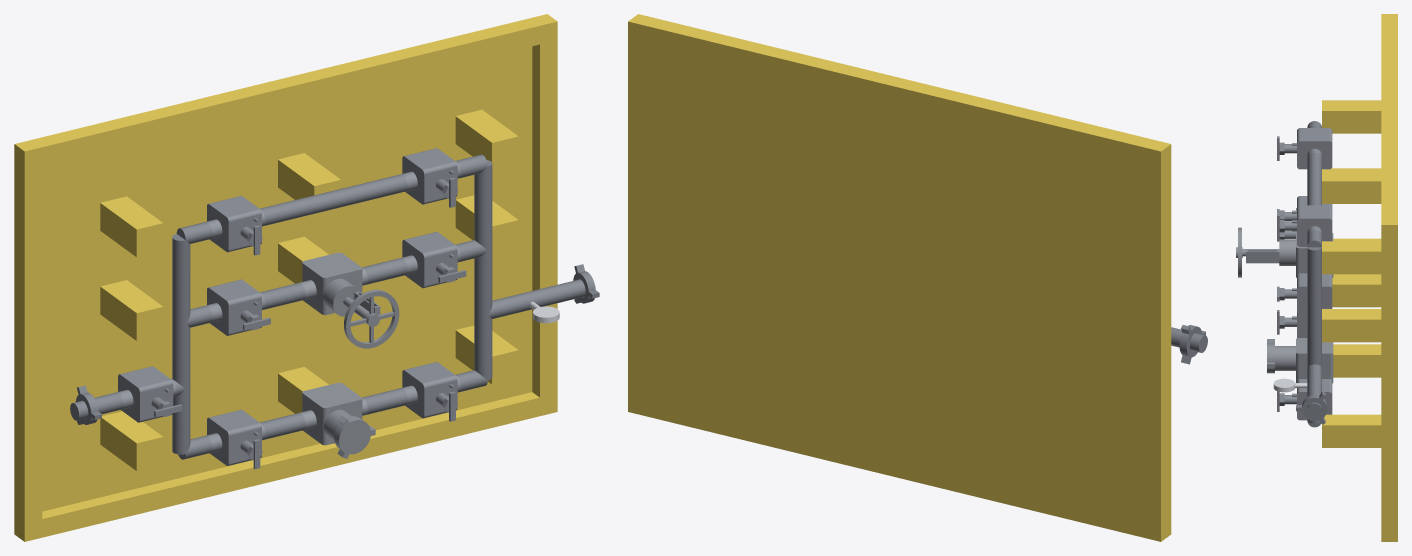
File: FB-CHOKEMANIFOLD.glb
3 views of the same model, side by side, from view 1: azimuth 30°, elevation 25°; view 2: azimuth 150°, elevation 25°; view 3: azimuth 270°, elevation 25° (orthographic). The views are drawn at different scales.
Visible parts, largest first — view 1: FB-CHOKEMANIFOLD-SKID, FB-CHOKEMANIFOLD-PLUGVALVE, FB-CHOKEMANIFOLD-INLET, FB-CHOKEMANIFOLD-OUTLET, FB-CHOKEMANIFOLD-ADJUSTABLECHOKE, FB-CHOKEMANIFOLD-POSITIVECHOKE, FB-CHOKEMANIFOLD-BYPASS; view 2: FB-CHOKEMANIFOLD-SKID, FB-CHOKEMANIFOLD-INLET; view 3: FB-CHOKEMANIFOLD-SKID, FB-CHOKEMANIFOLD-PLUGVALVE, FB-CHOKEMANIFOLD-OUTLET, FB-CHOKEMANIFOLD-POSITIVECHOKE, FB-CHOKEMANIFOLD-ADJUSTABLECHOKE, FB-CHOKEMANIFOLD-BYPASS, FB-CHOKEMANIFOLD-GAUGE.
Part boxes in pixels (box(x1,y1,x2,y2)): FB-CHOKEMANIFOLD-SKID: box(14, 14, 557, 541); FB-CHOKEMANIFOLD-PLUGVALVE: box(117, 148, 466, 469); FB-CHOKEMANIFOLD-INLET: box(70, 234, 487, 459); FB-CHOKEMANIFOLD-OUTLET: box(474, 160, 599, 380); FB-CHOKEMANIFOLD-ADJUSTABLECHOKE: box(300, 252, 399, 348); FB-CHOKEMANIFOLD-POSITIVECHOKE: box(299, 382, 375, 458); FB-CHOKEMANIFOLD-BYPASS: box(176, 154, 487, 243); FB-CHOKEMANIFOLD-SKID: box(628, 14, 1171, 541); FB-CHOKEMANIFOLD-INLET: box(1171, 325, 1207, 364); FB-CHOKEMANIFOLD-SKID: box(1322, 14, 1397, 541); FB-CHOKEMANIFOLD-PLUGVALVE: box(1277, 128, 1332, 420); FB-CHOKEMANIFOLD-OUTLET: box(1296, 247, 1327, 424); FB-CHOKEMANIFOLD-POSITIVECHOKE: box(1267, 338, 1333, 383); FB-CHOKEMANIFOLD-ADJUSTABLECHOKE: box(1236, 227, 1333, 277); FB-CHOKEMANIFOLD-BYPASS: box(1307, 121, 1321, 247); FB-CHOKEMANIFOLD-GAUGE: box(1273, 378, 1307, 392).
Size of the model in its own units: 3.05 by 2.13 by 0.9881.
